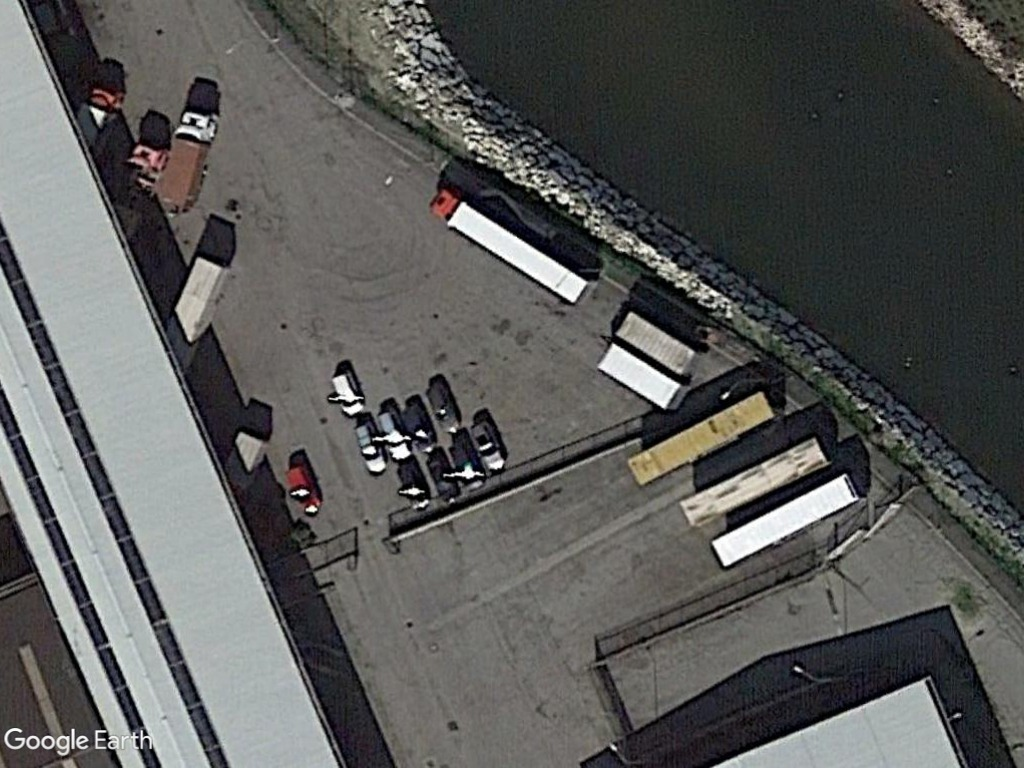car: (468, 419, 508, 474)
longvehicle: (426, 186, 601, 311), (622, 385, 774, 498), (710, 469, 857, 573), (678, 431, 832, 530), (597, 340, 684, 414)
truck: (156, 107, 220, 216)
